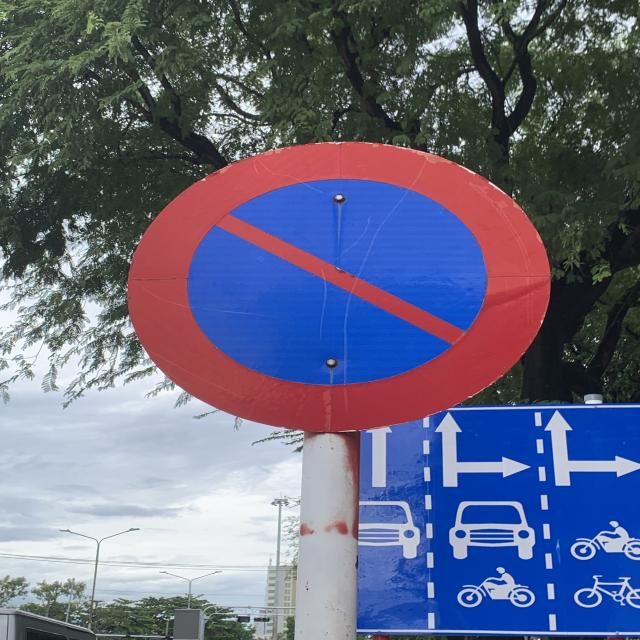Cam_Dau_Xe: (127, 140, 552, 432)
